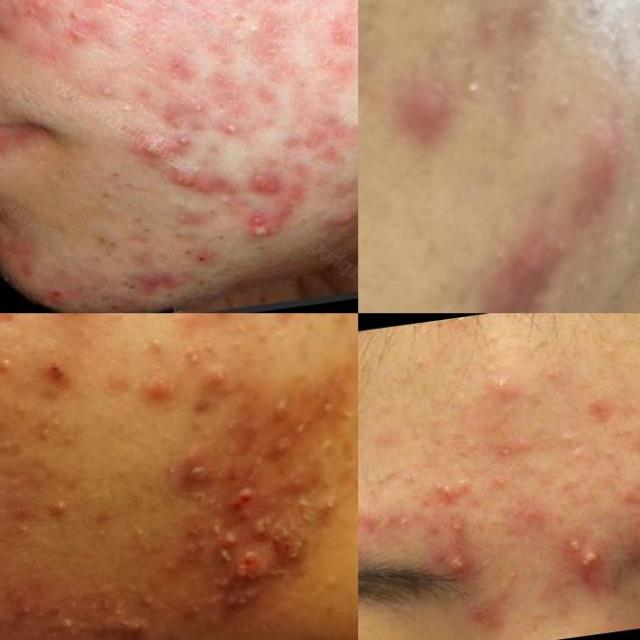6: (302, 205, 358, 238)
8: (372, 70, 475, 154), (121, 374, 161, 425), (52, 22, 98, 58), (166, 450, 215, 474)
9: (191, 361, 249, 410), (235, 211, 284, 247), (182, 95, 217, 118), (201, 313, 237, 335), (215, 118, 242, 142), (358, 526, 366, 566)
blackheads: (434, 227, 584, 313), (559, 134, 640, 229), (199, 576, 284, 626), (275, 510, 326, 570), (130, 125, 203, 162), (166, 161, 225, 204), (221, 486, 261, 537), (570, 542, 608, 578), (213, 550, 265, 576), (247, 171, 286, 201), (447, 552, 475, 584)
dark spot: (86, 228, 122, 266), (121, 213, 161, 244), (120, 166, 161, 196), (111, 104, 146, 132), (91, 185, 122, 212), (164, 228, 192, 250), (80, 281, 108, 302), (120, 274, 142, 298), (102, 163, 127, 183), (191, 273, 212, 293), (199, 202, 222, 219), (118, 195, 138, 214), (210, 227, 230, 245), (158, 288, 178, 304), (181, 245, 199, 262)
whiteheads: (439, 512, 481, 536), (488, 437, 524, 464)
